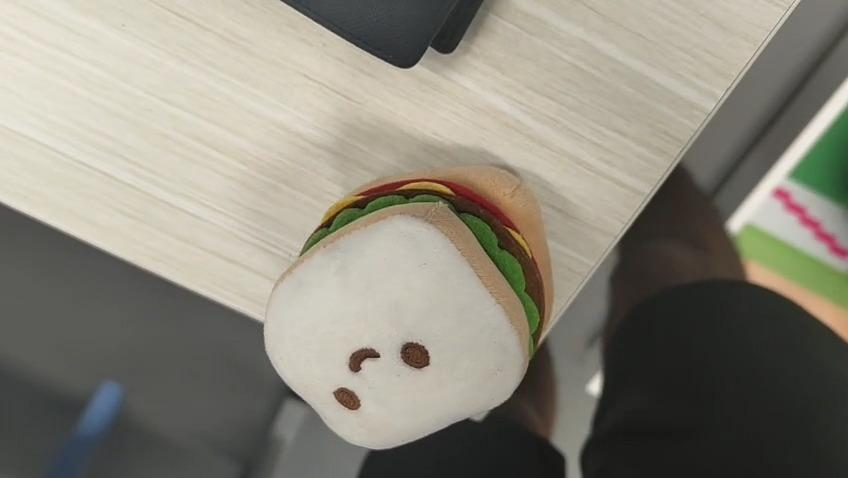objects: (264, 159, 554, 455)
